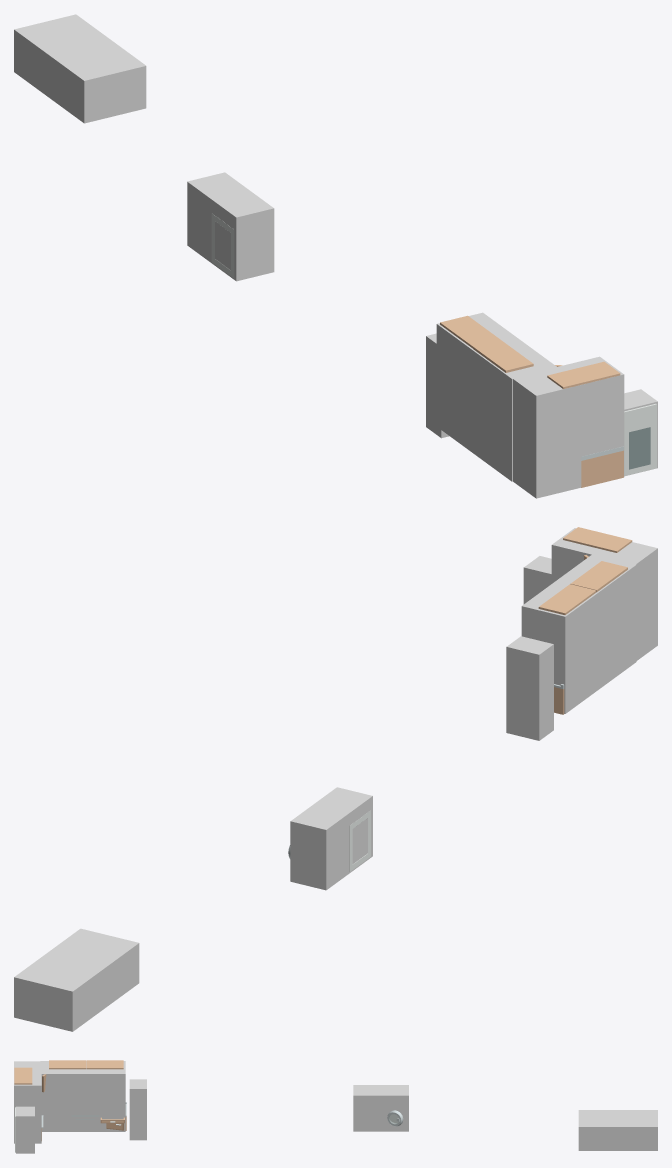
Rendered from Kagu2.gltf.
3 renders of one model, top to bottom at view 1: azimuth 30°, elevation 25°; view 2: azimuth 150°, elevation 25°; view 3: azimuth 270°, elevation 25°, orthographic. The views are drawn at different scales.
Visible parts, largest first — view 1: COL1, COL9, COL6, kitchenFridge(Clone), kitchenSink(Clone), COL5, kitchenCabinetUpperDouble(Clone), kitchenCabinetUpper(Clone), kitchenCabinetUpperLow(Clone); view 2: COL1, COL9, COL6, COL5, kitchenCabinetUpper(Clone), kitchenCabinetUpperLow(Clone), kitchenCabinetUpperDouble(Clone); view 3: COL1, COL9, COL6, COL5, kitchenCabinetUpperDouble(Clone), kitchenCabinetUpperLow(Clone), kitchenCabinetUpper(Clone), kitchenCabinetDrawer(Clone), washer(Clone).
Boxes of the visible parts, left/top/right/bottom form: COL1: left=436, top=312, right=657, bottom=498; COL9: left=14, top=14, right=146, bottom=123; COL6: left=187, top=172, right=274, bottom=281; kitchenFridge(Clone): left=624, top=403, right=656, bottom=475; kitchenSink(Clone): left=581, top=446, right=623, bottom=487; COL5: left=426, top=333, right=449, bottom=438; kitchenCabinetUpperDouble(Clone): left=473, top=340, right=562, bottom=372; kitchenCabinetUpper(Clone): left=547, top=361, right=620, bottom=388; kitchenCabinetUpperLow(Clone): left=440, top=315, right=500, bottom=348; COL1: left=521, top=528, right=657, bottom=713; COL9: left=14, top=928, right=139, bottom=1031; COL6: left=290, top=787, right=372, bottom=890; COL5: left=506, top=636, right=553, bottom=740; kitchenCabinetUpper(Clone): left=563, top=527, right=632, bottom=552; kitchenCabinetUpperLow(Clone): left=538, top=584, right=596, bottom=614; kitchenCabinetUpperDouble(Clone): left=570, top=555, right=627, bottom=592; COL1: left=14, top=1061, right=125, bottom=1153; COL9: left=578, top=1110, right=657, bottom=1150; COL6: left=353, top=1085, right=408, bottom=1131; COL5: left=129, top=1079, right=146, bottom=1140; kitchenCabinetUpperDouble(Clone): left=42, top=1060, right=86, bottom=1092; kitchenCabinetUpperLow(Clone): left=86, top=1060, right=123, bottom=1069; kitchenCabinetUpper(Clone): left=14, top=1067, right=32, bottom=1084; kitchenCabinetDrawer(Clone): left=100, top=1102, right=126, bottom=1130; washer(Clone): left=387, top=1110, right=403, bottom=1126.
Bounding box in the file's own units: 0.9354 × 0.8751 × 7.44.
